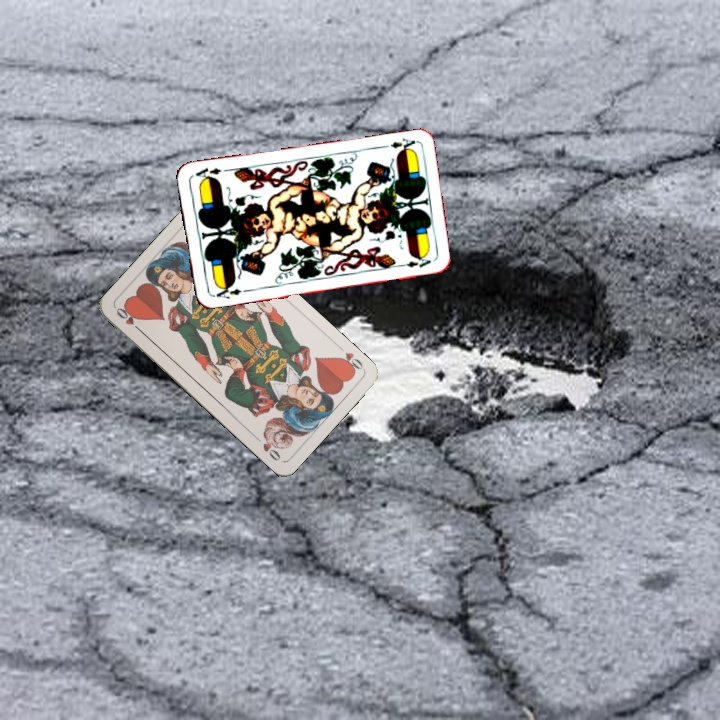EA: (377, 134, 418, 155), (208, 281, 244, 301)
HO: (112, 303, 145, 335), (334, 348, 366, 376)
